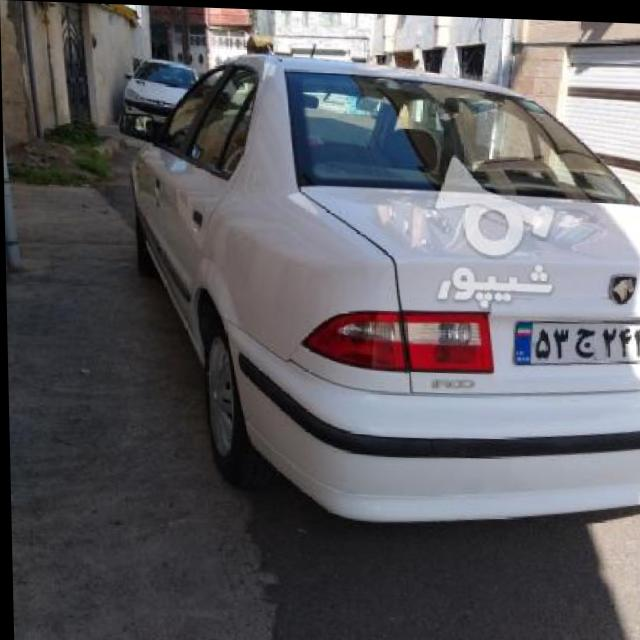licence: (498, 315, 640, 363)
